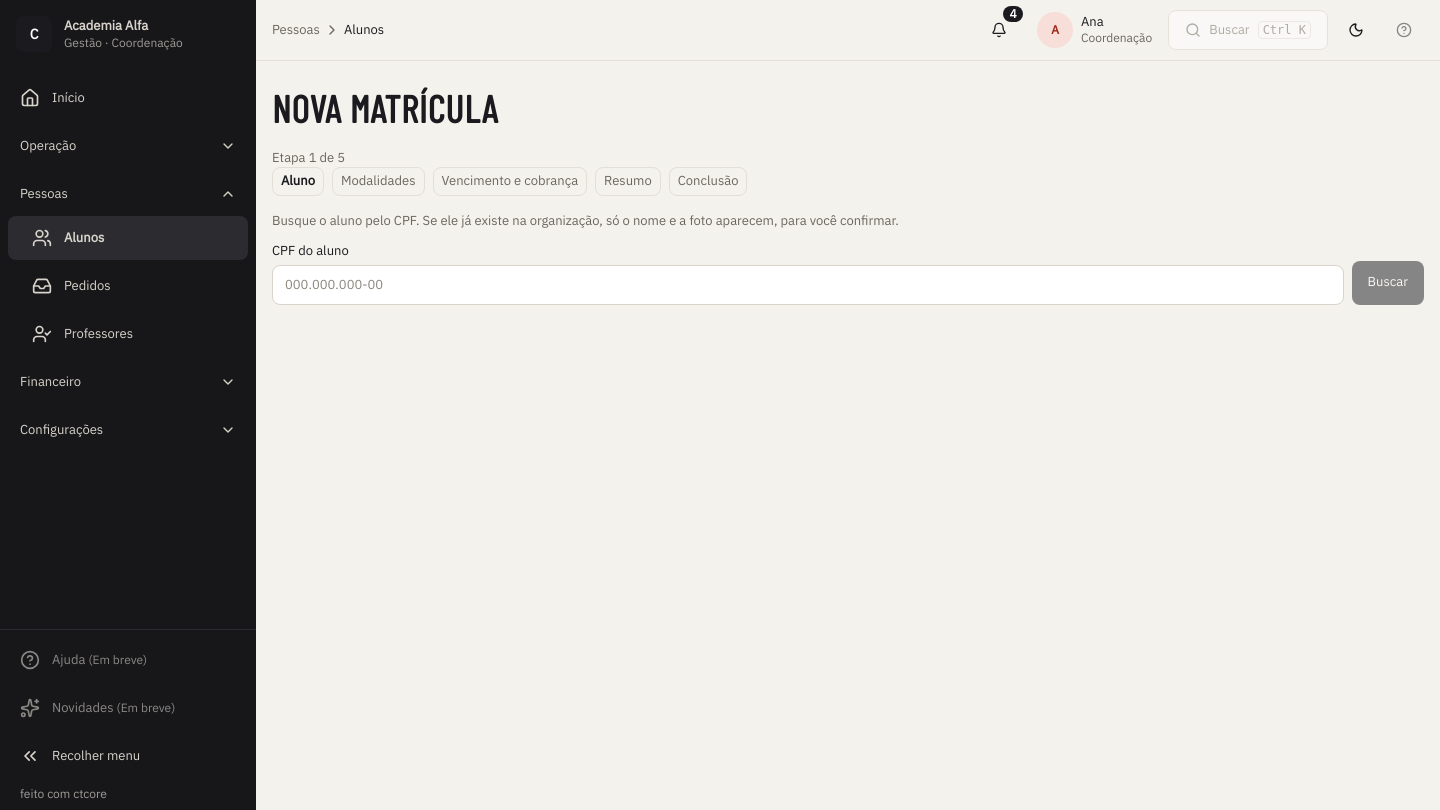
Test: assistente Nova matrícula (RF-MAT-01, #67) › CA19: CPF existente mostra só nome e situação e pede confirmação; CPF novo mostra o cadastro
Type "52998224725" into the field labelled "CPF do aluno" at (808, 285), box [272,265,1344,305]
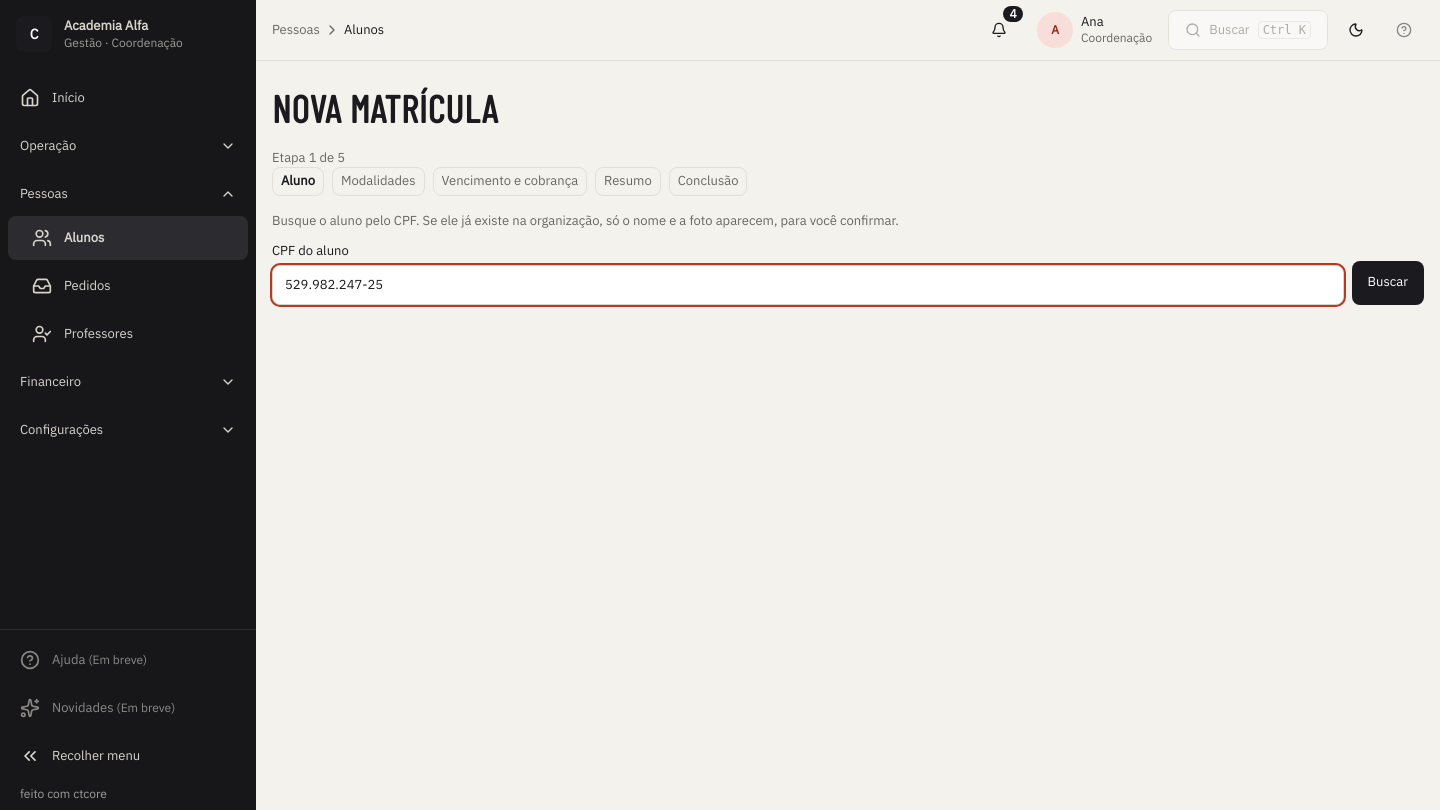
Click the button "Buscar" at (1388, 283), box [1352,261,1424,305]
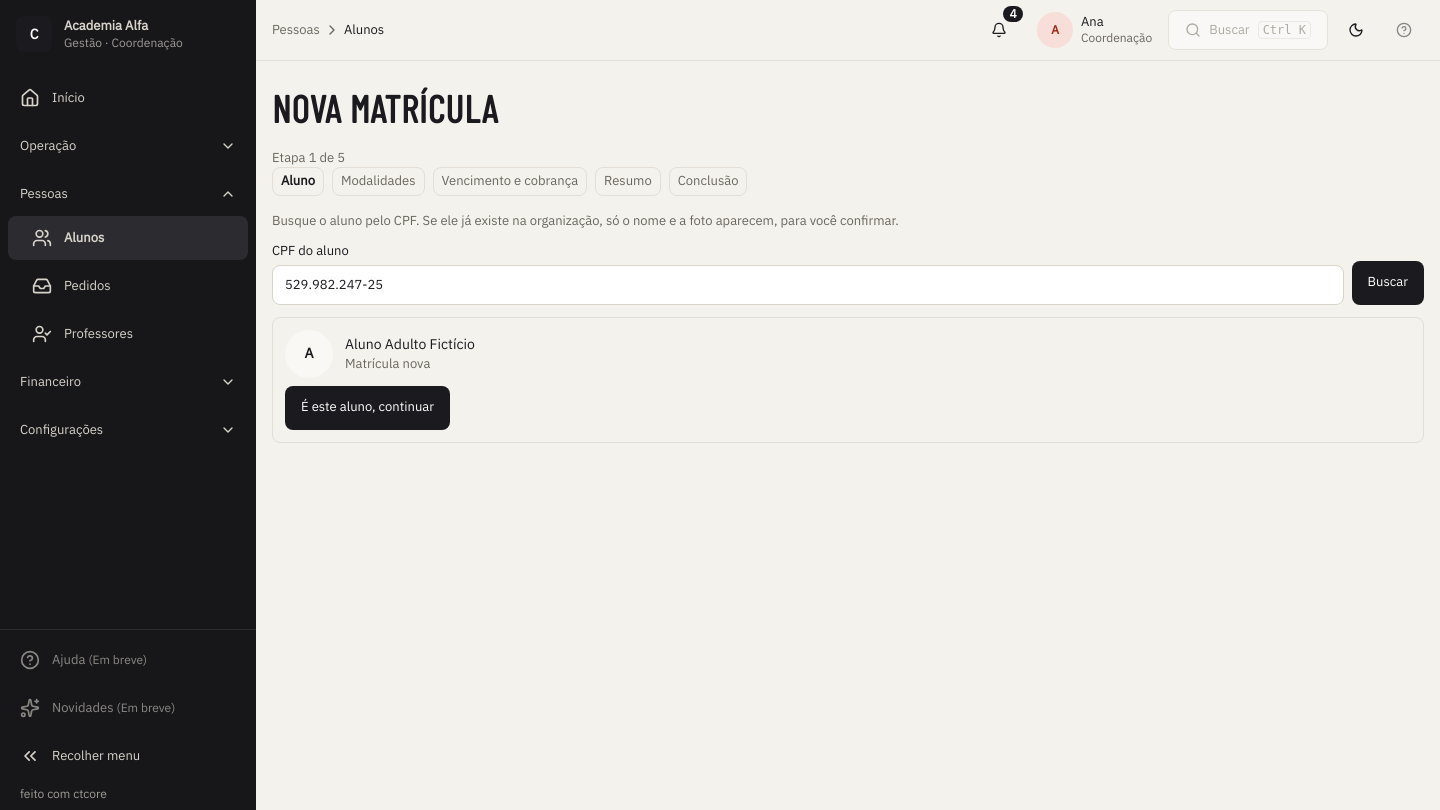
Result: the text "Aluno Adulto Fictício" is shown at [345,334,475,355]
Result: the text "Matrícula nova" is shown at [345,355,430,372]
Click the button "É este aluno, continuar" at (368, 408), box [285,386,450,430]
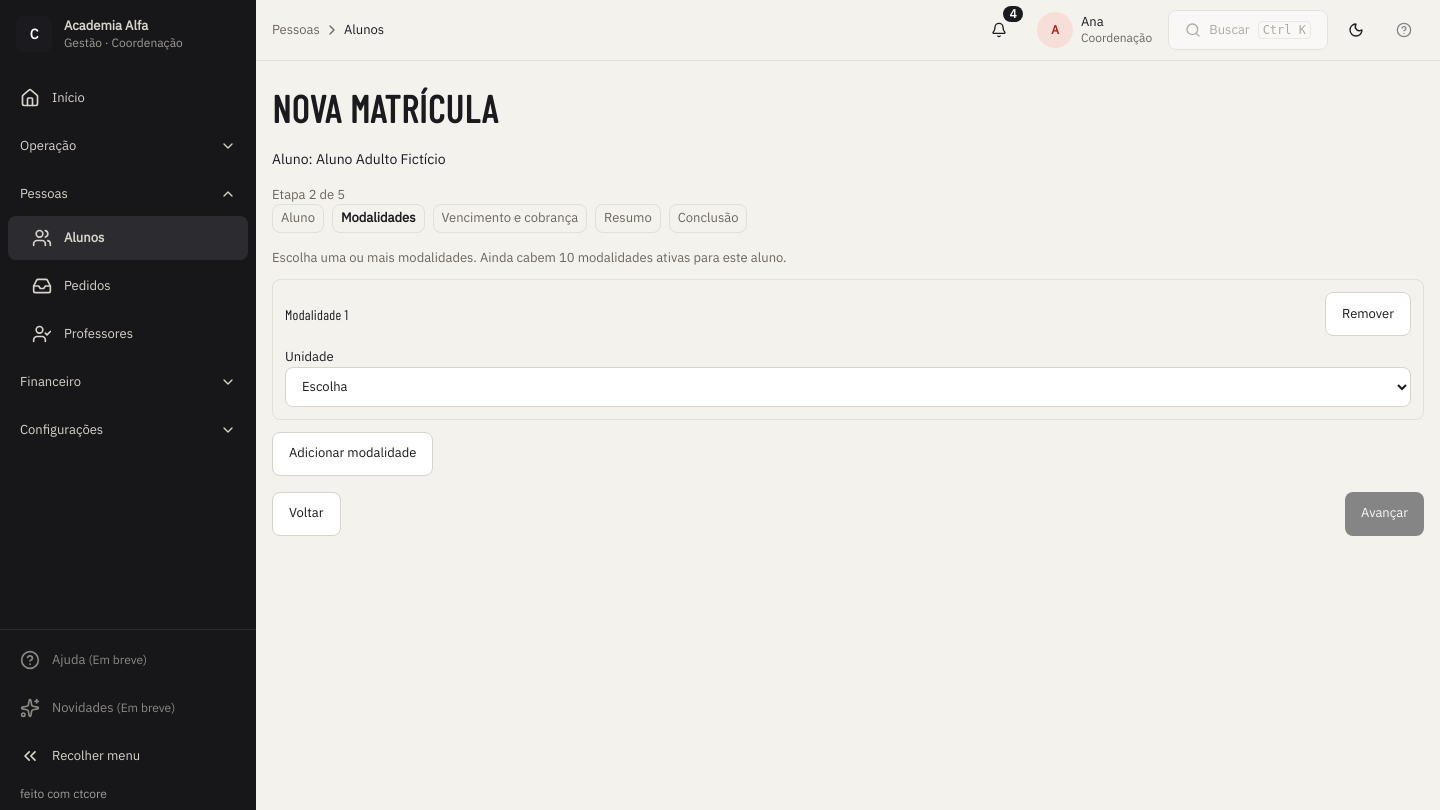
Result: the text "Etapa 2 de 5" is shown at [272,186,345,202]
